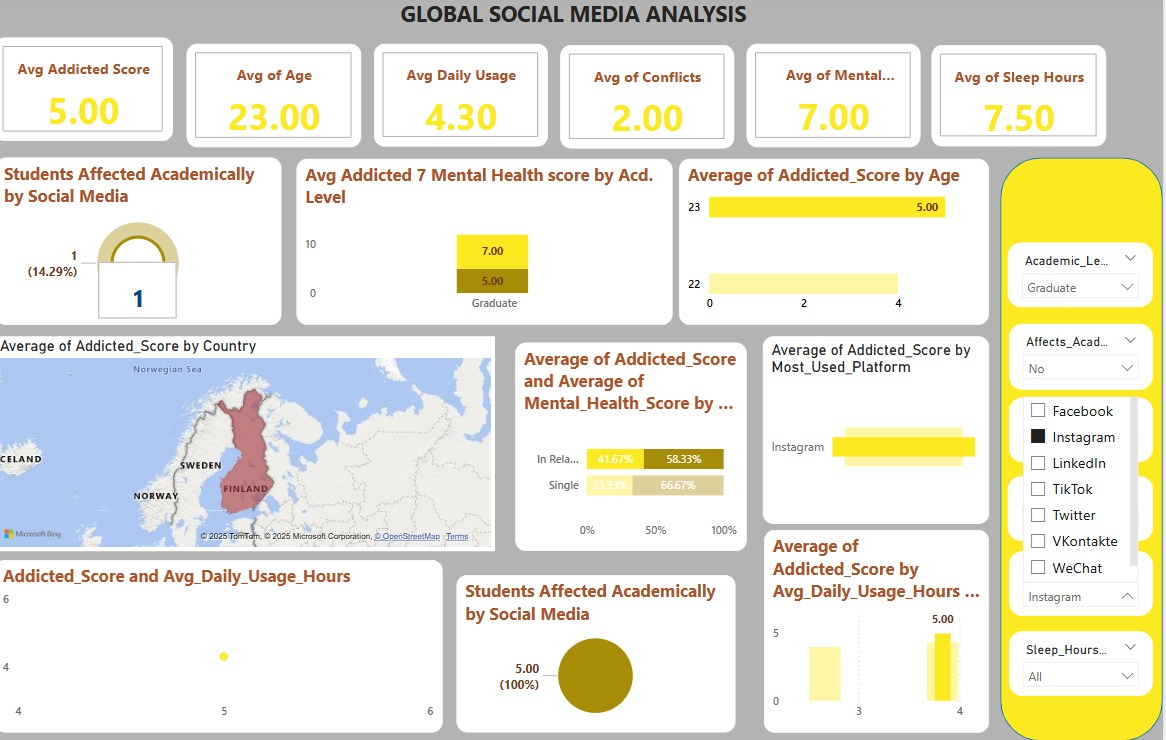

The page's visual inventory and layout, read from the dashboard file:
{"tool":"powerbi","page":{"name":"Global Analysis","canvas":[1300,830],"ordinal":0},"visuals":[{"type":"shape","box":[1119.6,180.8,180.8,649.5],"z":0},{"type":"cardVisual","fields":{"Data":["Avg(Students Social Media Addiction.Addicted_Score)"]},"box":[0,47.3,198.9,115.4],"z":1000},{"type":"cardVisual","fields":{"Data":["Avg(Students Social Media Addiction.Age)"]},"box":[214.2,54.2,194.7,115.4],"z":2000},{"type":"cardVisual","fields":{"Data":["Avg(Students Social Media Addiction.Avg_Daily_Usage_Hours)"]},"box":[422.8,54.2,193.3,114],"z":3000},{"type":"cardVisual","fields":{"Data":["Avg(Students Social Media Addiction.Conflicts_Over_Social_Media)"]},"box":[630,55.6,193.3,115.4],"z":4000},{"type":"cardVisual","fields":{"Data":["Avg(Students Social Media Addiction.Mental_Health_Score)"]},"box":[837.2,54.2,193.3,115.4],"z":5000},{"type":"cardVisual","fields":{"Data":["Avg(Students Social Media Addiction.Sleep_Hours_Per_Night)"]},"box":[1043.1,55.6,194.7,112.7],"z":6000},{"type":"columnChart","title":"Avg Addicted 7 Mental Health score by Acd. Level","fields":{"Category":["Students Social Media Addiction.Academic_Level"],"Y":["Avg(Students Social Media Addiction.Addicted_Score)","Avg(Students Social Media Addiction.Mental_Health_Score)"]},"box":[336.6,182.2,418.6,185],"z":7000},{"type":"donutChart","title":"Students Affected Academically by Social Media","fields":{"Category":["Students Social Media Addiction.Affects_Academic_Performance"],"Y":["CountNonNull(Students Social Media Addiction.Student_ID)"]},"box":[1.4,180.8,318.5,186.4],"z":8000},{"type":"cardVisual","fields":{"Data":["Count(Students Social Media Addiction.Student_ID)"]},"box":[100.1,292.1,97.4,75.1],"z":9000},{"type":"clusteredBarChart","fields":{"Category":["Students Social Media Addiction.Age"],"Y":["Avg(Students Social Media Addiction.Addicted_Score)"]},"box":[762.1,182.2,344.9,185],"z":10000},{"type":"slicer","fields":{"Values":["Students Social Media Addiction.Academic_Level"]},"box":[1127.9,275.4,161.3,72.3],"z":11000},{"type":"slicer","fields":{"Values":["Students Social Media Addiction.Affects_Academic_Performance"]},"box":[1129.3,365.8,159.9,73.7],"z":12000},{"type":"slicer","fields":{"Values":["Students Social Media Addiction.Country"]},"box":[1129.3,447.8,159.9,72.3],"z":13000},{"type":"slicer","fields":{"Values":["Students Social Media Addiction.Gender"]},"box":[1127.9,535.4,161.3,72.3],"z":14000},{"type":"slicer","fields":{"Values":["Students Social Media Addiction.Most_Used_Platform"]},"box":[1129.3,618.9,159.9,72.3],"z":15000},{"type":"filledMap","fields":{"Category":["Students Social Media Addiction.Country"]},"box":[1.4,379.7,556.3,239.2],"z":16000},{"type":"pieChart","title":"Students Affected Academically by Social Media","fields":{"Category":["Students Social Media Addiction.Gender"],"Y":["Avg(Students Social Media Addiction.Addicted_Score)"]},"box":[514.6,645.3,310.1,175.2],"z":17000},{"type":"funnel","fields":{"Category":["Students Social Media Addiction.Most_Used_Platform"],"Y":["Avg(Students Social Media Addiction.Addicted_Score)"]},"box":[855.3,379.7,251.7,208.6],"z":18000},{"type":"hundredPercentStackedBarChart","fields":{"Category":["Students Social Media Addiction.Relationship_Status"],"Y":["Avg(Students Social Media Addiction.Addicted_Score)","Avg(Students Social Media Addiction.Mental_Health_Score)"]},"box":[579.9,386.6,257.3,232.3],"z":19000},{"type":"lineStackedColumnComboChart","fields":{"Y":["Avg(Students Social Media Addiction.Addicted_Score)"],"Category":["Students Social Media Addiction.Avg_Daily_Usage_Hours (bins)"]},"box":[856.7,595.2,250.3,225.3],"z":20000},{"type":"scatterChart","fields":{"X":["Students Social Media Addiction.Addicted_Score"],"Y":["Students Social Media Addiction.Avg_Daily_Usage_Hours"]},"box":[0,628.6,499.3,191.9],"z":21000},{"type":"textbox","box":[0,0,1289.2,47.3],"z":22000},{"type":"slicer","fields":{"Values":["Students Social Media Addiction.Sleep_Hours_Per_Night"]},"box":[1129.3,707.9,159.9,72.3],"z":23000}]}

Visuals, with their boxes in screenshot pixels (x1, y1, x2, y2), scaled from the page's 1300x830 canvas onto the 1166x740 screenshot:
shape: x1=1004 y1=161 x2=1165 y2=739
cardVisual - Avg(Students Social Media Addiction.Addicted_Score): x1=0 y1=42 x2=178 y2=145
cardVisual - Avg(Students Social Media Addiction.Age): x1=192 y1=48 x2=367 y2=151
cardVisual - Avg(Students Social Media Addiction.Avg_Daily_Usage_Hours): x1=379 y1=48 x2=553 y2=150
cardVisual - Avg(Students Social Media Addiction.Conflicts_Over_Social_Media): x1=565 y1=50 x2=738 y2=152
cardVisual - Avg(Students Social Media Addiction.Mental_Health_Score): x1=751 y1=48 x2=924 y2=151
cardVisual - Avg(Students Social Media Addiction.Sleep_Hours_Per_Night): x1=936 y1=50 x2=1110 y2=150
"Avg Addicted 7 Mental Health score by Acd. Level" columnChart: x1=302 y1=162 x2=677 y2=327
"Students Affected Academically by Social Media" donutChart: x1=1 y1=161 x2=287 y2=327
cardVisual - Count(Students Social Media Addiction.Student_ID): x1=90 y1=260 x2=177 y2=327
clusteredBarChart - Students Social Media Addiction.Age x Avg(Students Social Media Addiction.Addicted_Score): x1=684 y1=162 x2=993 y2=327
slicer - Students Social Media Addiction.Academic_Level: x1=1012 y1=246 x2=1156 y2=310
slicer - Students Social Media Addiction.Affects_Academic_Performance: x1=1013 y1=326 x2=1156 y2=392
slicer - Students Social Media Addiction.Country: x1=1013 y1=399 x2=1156 y2=464
slicer - Students Social Media Addiction.Gender: x1=1012 y1=477 x2=1156 y2=542
slicer - Students Social Media Addiction.Most_Used_Platform: x1=1013 y1=552 x2=1156 y2=616
filledMap - Students Social Media Addiction.Country: x1=1 y1=339 x2=500 y2=552
"Students Affected Academically by Social Media" pieChart: x1=462 y1=575 x2=740 y2=732
funnel - Students Social Media Addiction.Most_Used_Platform x Avg(Students Social Media Addiction.Addicted_Score): x1=767 y1=339 x2=993 y2=525
hundredPercentStackedBarChart - Students Social Media Addiction.Relationship_Status x Avg(Students Social Media Addiction.Addicted_Score): x1=520 y1=345 x2=751 y2=552
lineStackedColumnComboChart - Avg(Students Social Media Addiction.Addicted_Score) x Students Social Media Addiction.Avg_Daily_Usage_Hours (bins): x1=768 y1=531 x2=993 y2=732
scatterChart - Students Social Media Addiction.Addicted_Score x Students Social Media Addiction.Avg_Daily_Usage_Hours: x1=0 y1=560 x2=448 y2=732
textbox: x1=0 y1=0 x2=1156 y2=42
slicer - Students Social Media Addiction.Sleep_Hours_Per_Night: x1=1013 y1=631 x2=1156 y2=696
